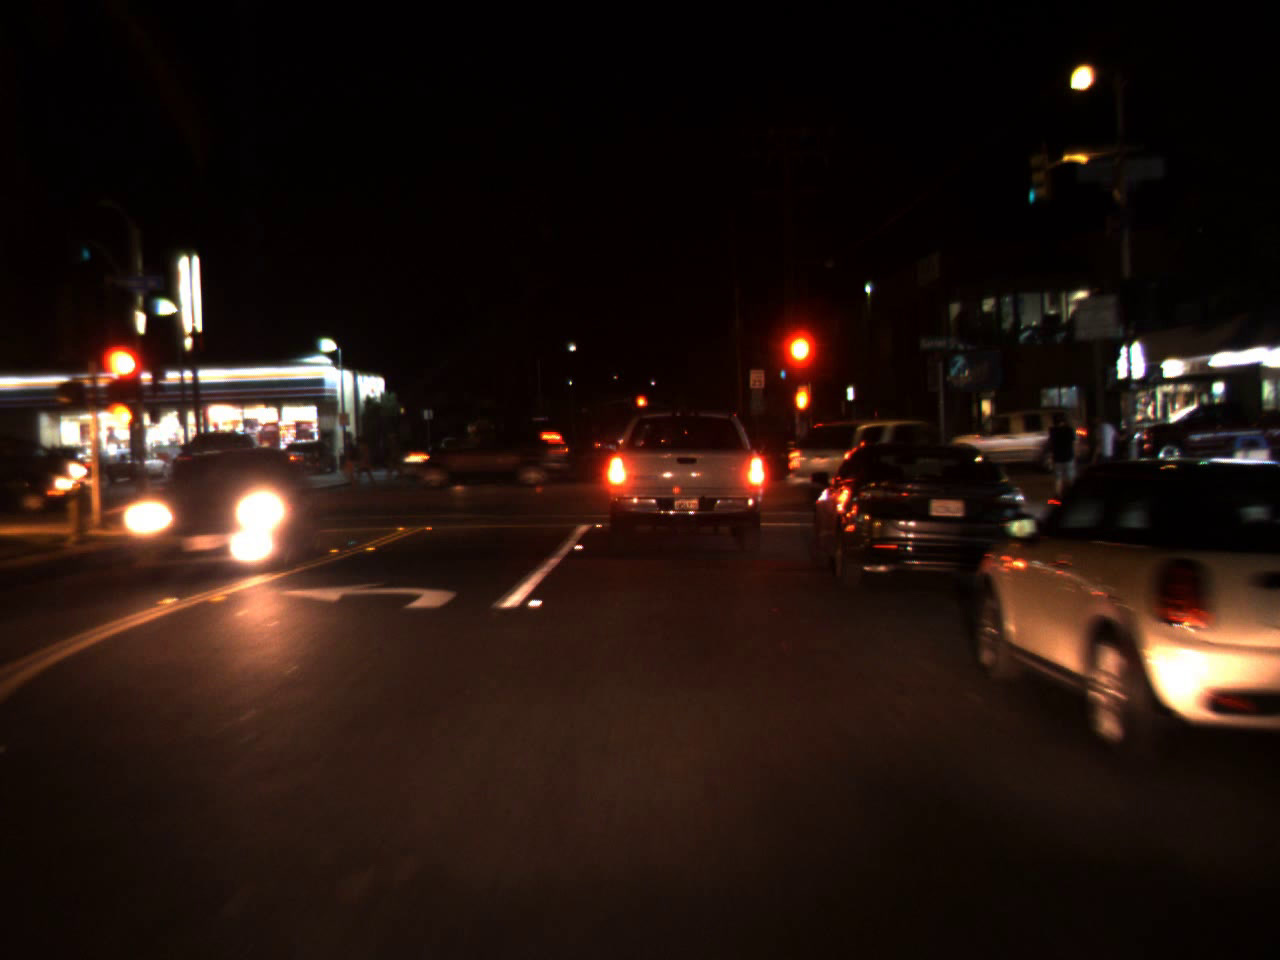stop: (104, 341, 147, 419), (778, 332, 812, 388), (636, 394, 648, 418)
